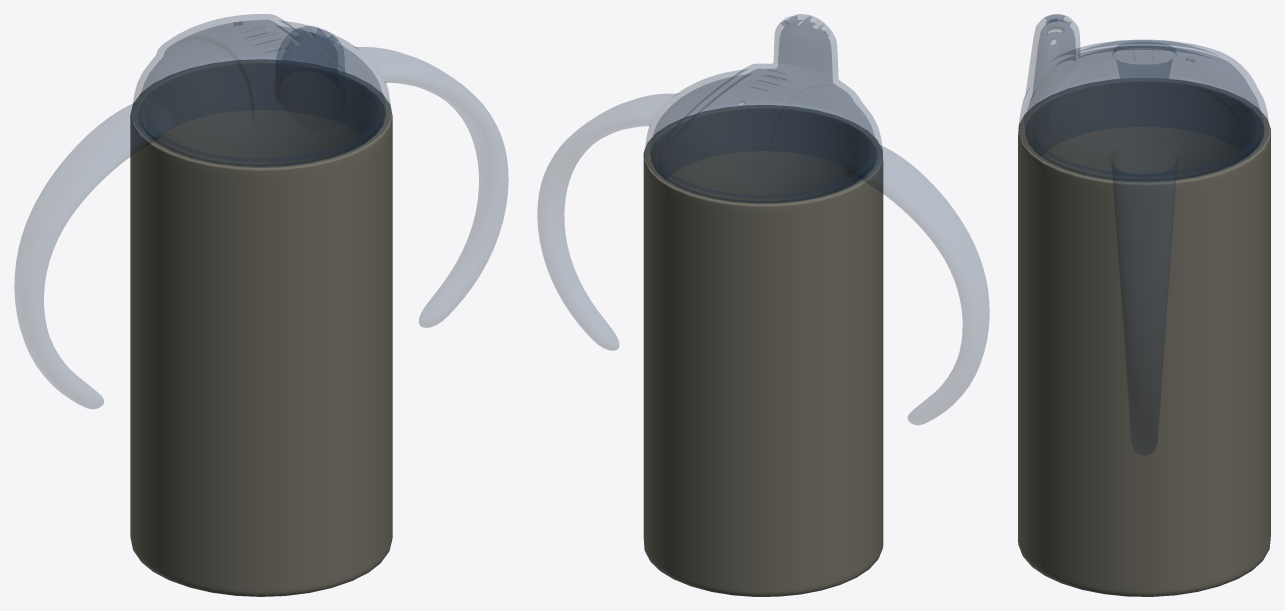
File: Sippy- v3.glb
The picture shows the model from 3 angles, left to right: view 1: azimuth 30°, elevation 25°; view 2: azimuth 150°, elevation 25°; view 3: azimuth 270°, elevation 25°; orthographic projection. The views are drawn at different scales.
Visible parts, largest first — view 1: Object002, SpherePlus001, Cylinder001; view 2: Object002, SpherePlus001, Cylinder001; view 3: Object002, SpherePlus001, Cylinder001.
Part boxes in pixels (x1,y1,x2,y2): Object002: (130, 125, 392, 588); SpherePlus001: (14, 14, 508, 408); Cylinder001: (130, 59, 392, 596); Object002: (643, 162, 883, 589); SpherePlus001: (537, 14, 989, 424); Cylinder001: (643, 105, 883, 596); Object002: (1018, 139, 1270, 589); SpherePlus001: (1018, 14, 1269, 455); Cylinder001: (1018, 77, 1270, 596).
Size of the model in its own units: 0.1495 by 0.1612 by 0.0699.
3 materials, 1 textured.
